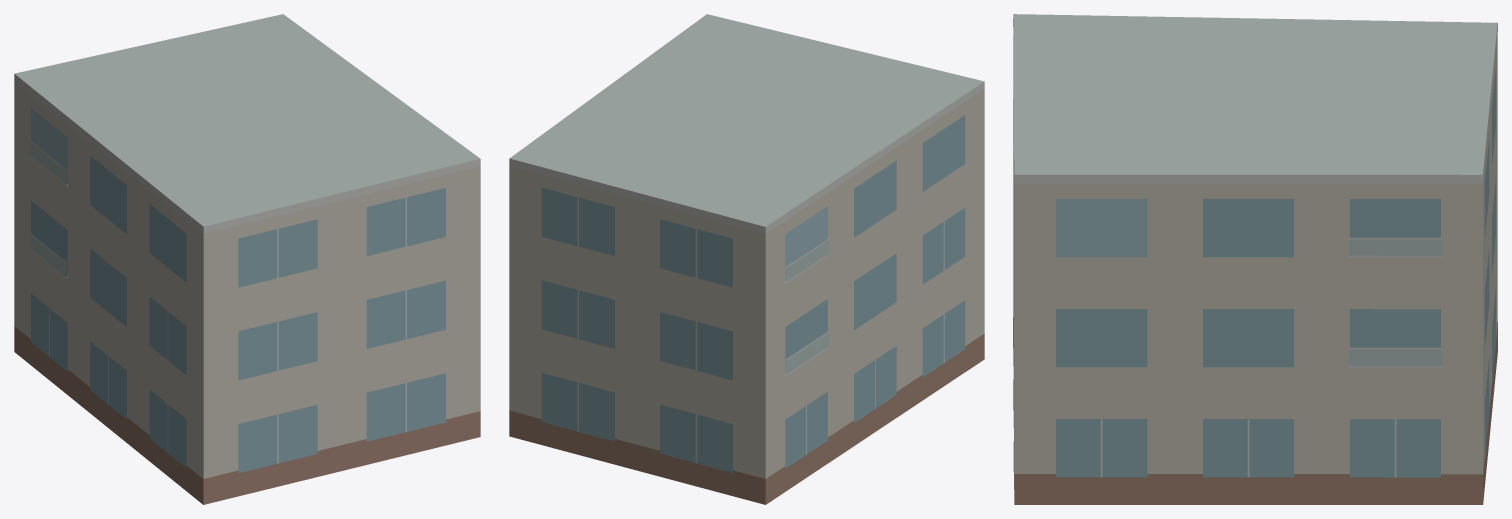
The model's file is survey-upis-32832902.glb.
3 renders of one model, left to right at view 1: azimuth 30°, elevation 25°; view 2: azimuth 150°, elevation 25°; view 3: azimuth 270°, elevation 25°, orthographic. The views are drawn at different scales.
Visible parts, largest first — view 1: survey-upis-32832902.tmp; view 2: survey-upis-32832902.tmp; view 3: survey-upis-32832902.tmp.
Boxes of the visible parts, x1=… form: survey-upis-32832902.tmp: x1=14, y1=14, x2=480, y2=504; survey-upis-32832902.tmp: x1=509, y1=14, x2=984, y2=504; survey-upis-32832902.tmp: x1=1013, y1=14, x2=1497, y2=504.
Size of the model in its own units: 9.6 by 9.15 by 12.18.
